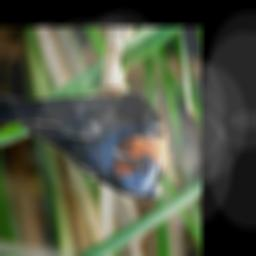Swallow: (0, 84, 172, 201)
